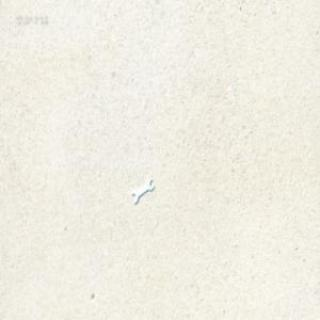Wrenchtrack_idkeyframe: (130, 178, 154, 205)
